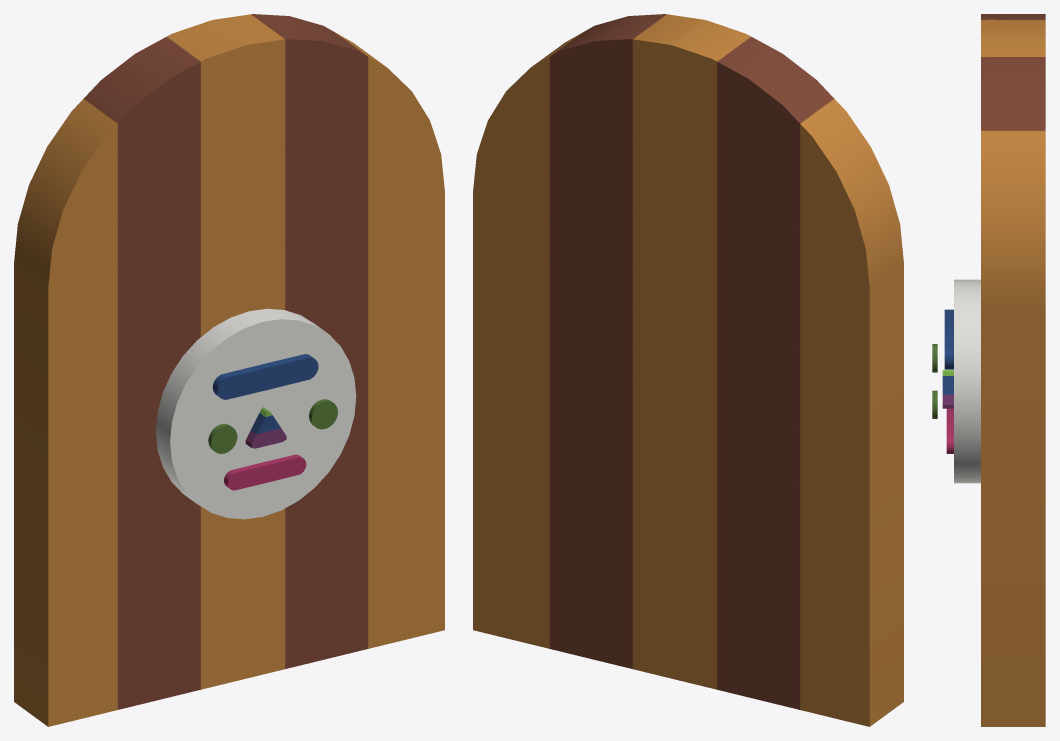
File: maindoor_hinge.fbx
3 views of the same model, side by side, from view 1: azimuth 30°, elevation 25°; view 2: azimuth 150°, elevation 25°; view 3: azimuth 270°, elevation 25° (orthographic). The views are drawn at different scales.
Visible parts, largest first — view 1: door _2_hinge; view 2: door _2_hinge; view 3: door _2_hinge.
Part boxes in pixels (x1=…): door _2_hinge: x1=14, y1=14, x2=444, y2=726; door _2_hinge: x1=473, y1=14, x2=903, y2=726; door _2_hinge: x1=932, y1=14, x2=1045, y2=726.
Size of the model in its own units: 89.57 by 137 by 23.46.
